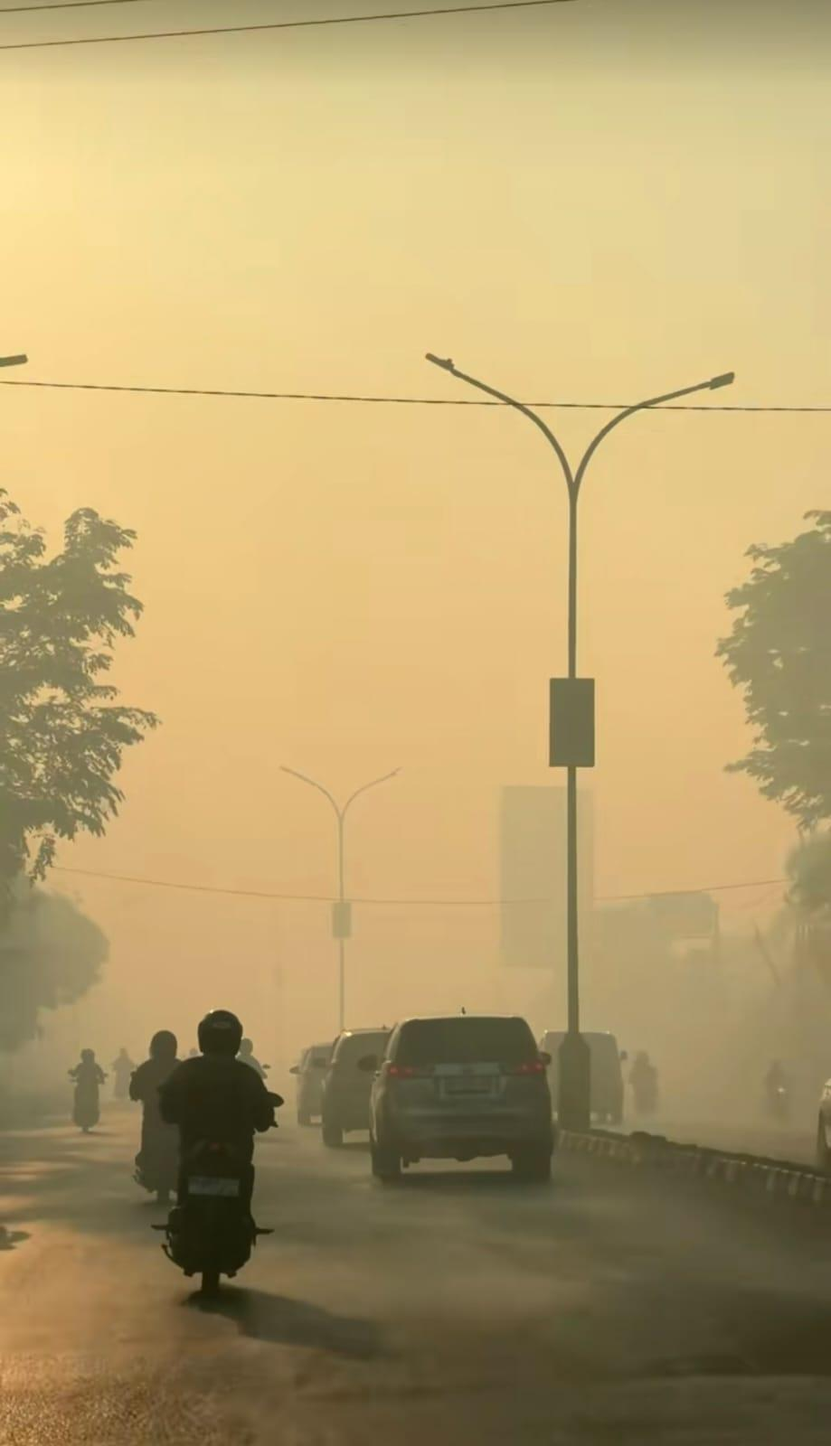Deteksi-Objek-Citra-Berasap: (0, 0, 831, 1193)
Gedung: (498, 783, 600, 971), (596, 891, 723, 1028)
Kendaraan: (371, 1016, 555, 1186), (152, 1088, 283, 1300), (537, 1028, 624, 1128), (320, 1028, 391, 1150), (130, 1082, 184, 1206), (290, 1042, 335, 1129), (70, 1066, 105, 1134)
Manusia: (157, 1010, 282, 1188), (128, 1029, 188, 1171), (69, 1048, 106, 1120), (630, 1049, 659, 1119), (765, 1060, 789, 1126), (237, 1036, 269, 1078), (112, 1048, 137, 1099)
Vegetasi: (0, 488, 160, 886), (714, 508, 831, 833), (0, 865, 114, 1056)
